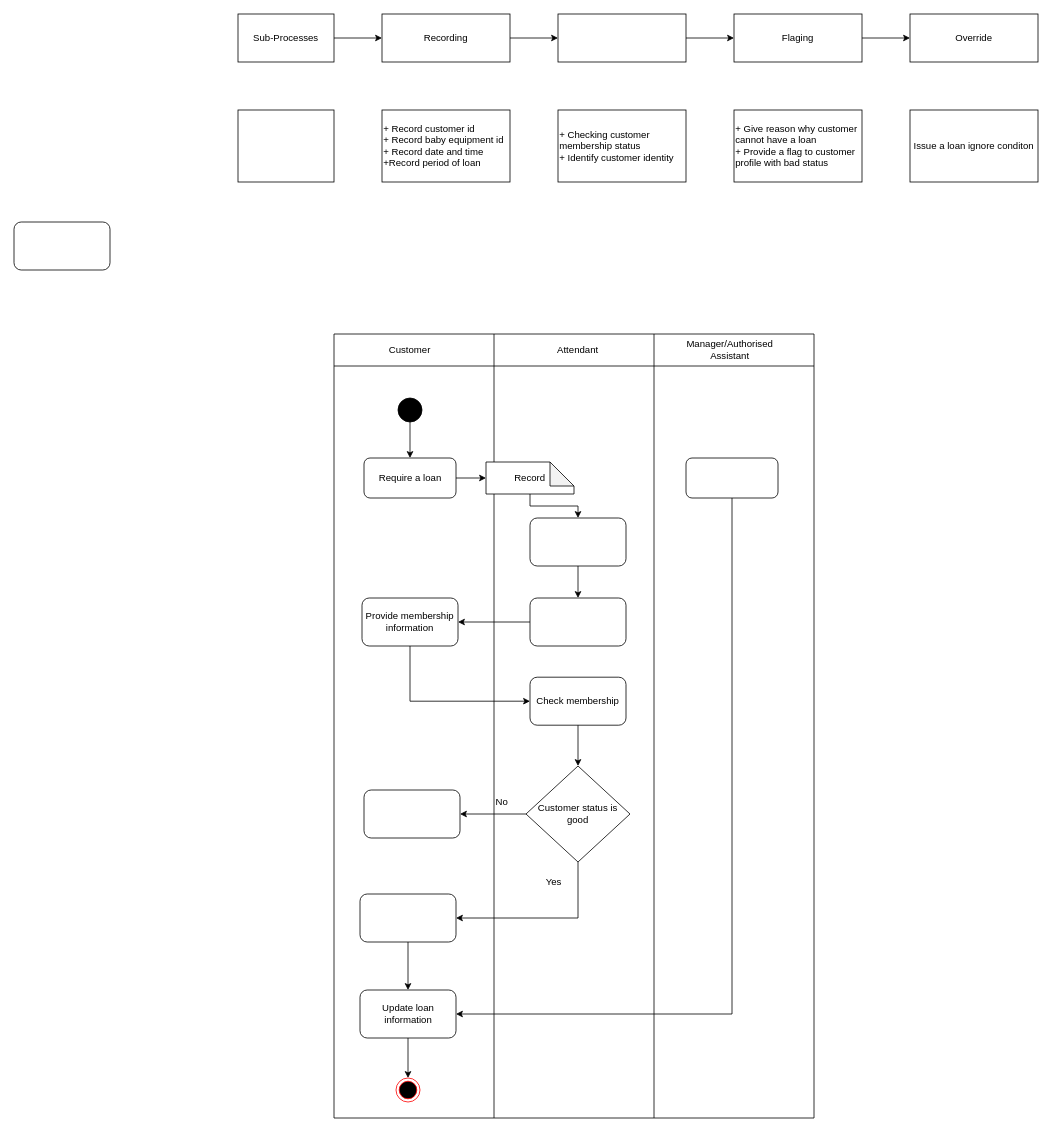
Image size: 1052x1133. Some labels were removed from this diagram. The shapes that lost their labels are listed below. From the top down, each one's centre as x and y in pixels, then its label:
the point at 621,37: Checking
the point at 285,145: Activities
the point at 731,477: Issue a loan
the point at 577,541: Record information
the point at 577,621: Record membership
the point at 411,813: Provide a flag to profile
the point at 407,917: Accept the loan
